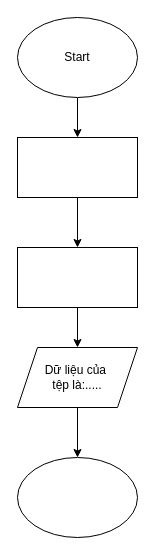
Image size: 155x555. Some labels were removed from this diagram. The centre of each missing label's shape, as x and y in pixels:
"FILE * filePointer char buffer[50]" goes at (x=77, y=167).
"open file với dạng đọc cho chương trình đọc và in ra dữ liệu của tệp" goes at (x=77, y=277).
